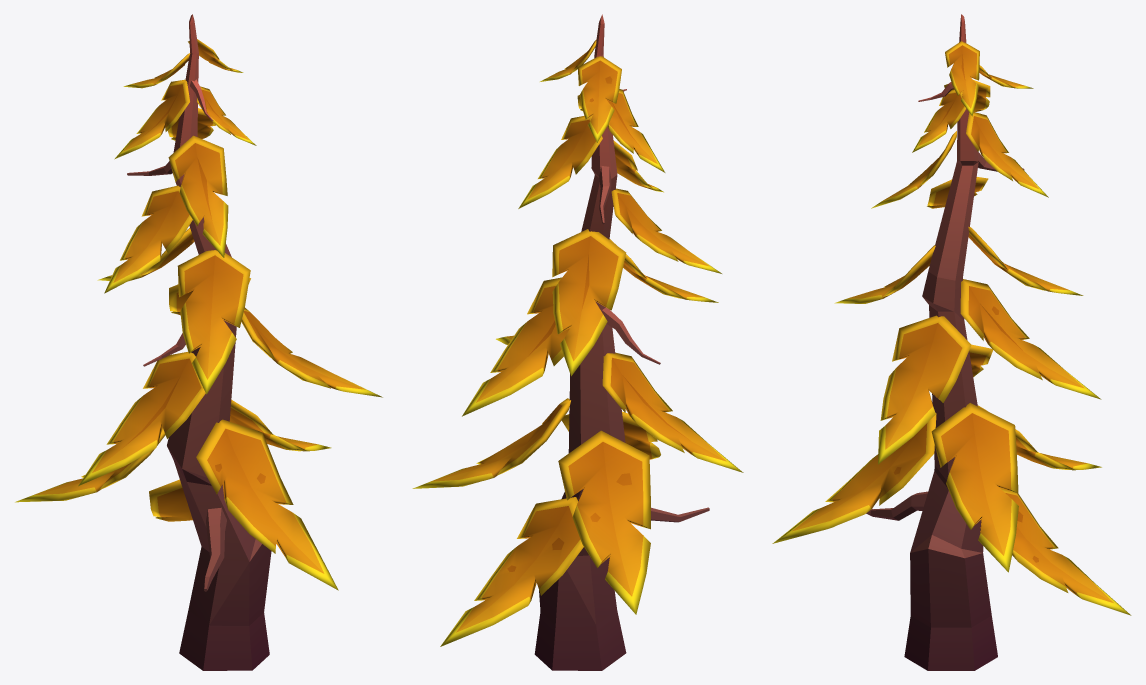
The model's file is pine3.glb.
3 views of the same model, side by side, from view 1: azimuth 30°, elevation 25°; view 2: azimuth 150°, elevation 25°; view 3: azimuth 270°, elevation 25° (orthographic). The views are drawn at different scales.
Parts seen in each view (by area): view 1: pine3; view 2: pine3; view 3: pine3.
Part boxes in pixels (box(x1,y1,x2,y2)): pine3: box(15, 14, 382, 670); pine3: box(412, 14, 743, 670); pine3: box(772, 14, 1131, 670).
Bounding box in the file's own units: 4.25 × 8.96 × 4.65.
1 material, 1 textured.
